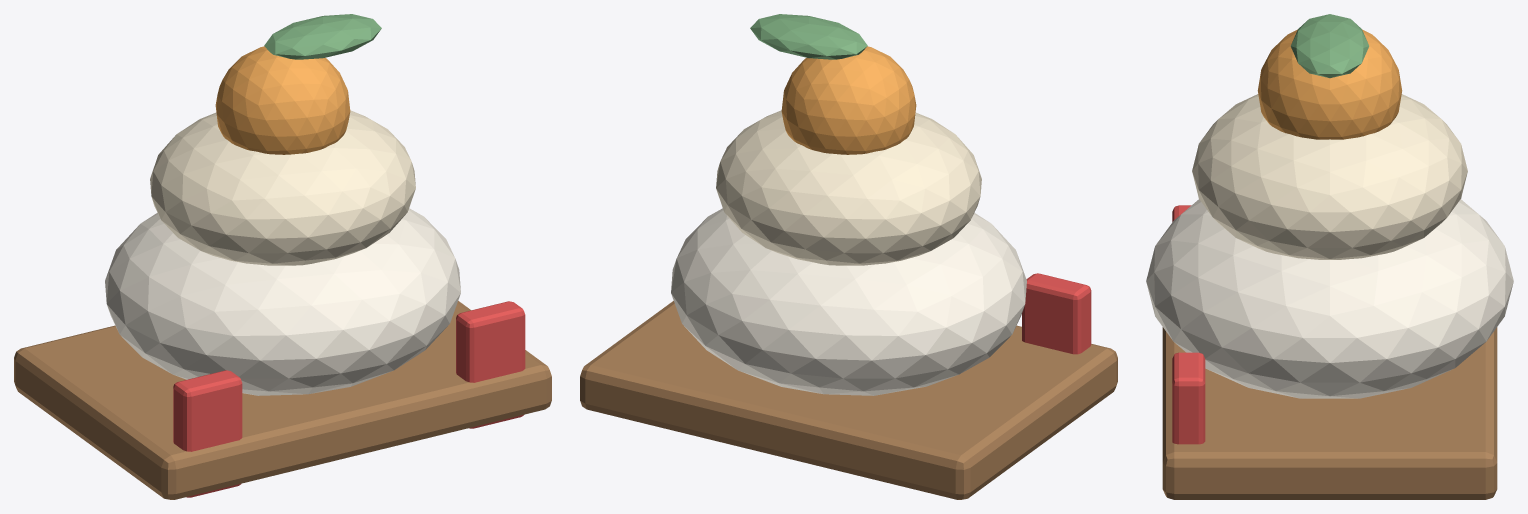
The model's file is ritual_kagami_mochi.glb.
The picture shows the model from 3 angles, left to right: view 1: azimuth 30°, elevation 25°; view 2: azimuth 150°, elevation 25°; view 3: azimuth 270°, elevation 25°; orthographic projection. The views are drawn at different scales.
Visible parts, largest first — view 1: Lower kagami mochi, Sanbo offering tray, Upper kagami mochi, Japanese daidai citrus, Red-and-white offering strips.001, Red-and-white offering strips, Daidai leaf; view 2: Sanbo offering tray, Lower kagami mochi, Upper kagami mochi, Japanese daidai citrus, Red-and-white offering strips, Daidai leaf; view 3: Lower kagami mochi, Sanbo offering tray, Upper kagami mochi, Japanese daidai citrus, Daidai leaf, Red-and-white offering strips.001.
Boxes of the visible parts, <box> form: Lower kagami mochi: <box>105,208,460,395</box>; Sanbo offering tray: <box>14,301,551,499</box>; Upper kagami mochi: <box>150,110,415,265</box>; Japanese daidai citrus: <box>215,46,350,154</box>; Red-and-white offering strips.001: <box>456,301,525,428</box>; Red-and-white offering strips: <box>173,370,242,497</box>; Daidai leaf: <box>264,14,381,59</box>; Sanbo offering tray: <box>580,301,1117,499</box>; Lower kagami mochi: <box>671,208,1026,395</box>; Upper kagami mochi: <box>716,110,981,265</box>; Japanese daidai citrus: <box>781,46,916,154</box>; Red-and-white offering strips: <box>1022,273,1091,354</box>; Daidai leaf: <box>750,14,867,59</box>; Lower kagami mochi: <box>1146,199,1513,398</box>; Sanbo offering tray: <box>1162,327,1497,499</box>; Upper kagami mochi: <box>1192,94,1467,259</box>; Japanese daidai citrus: <box>1257,29,1402,139</box>; Daidai leaf: <box>1290,14,1369,78</box>; Red-and-white offering strips.001: <box>1172,352,1205,444</box>.
Size of the model in its own units: 1.95 by 1.78 by 1.5.
